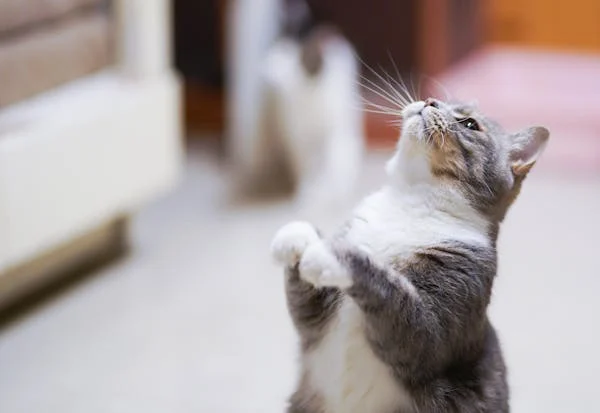Cat: (274, 97, 550, 413)
